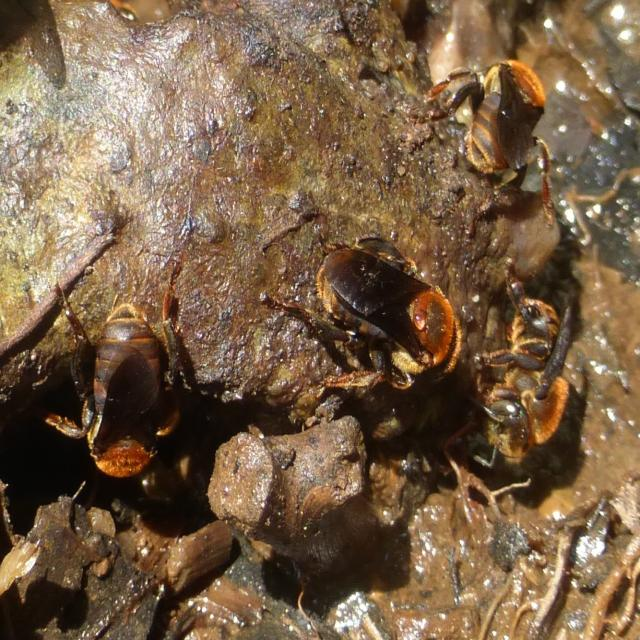Meliponula: (50, 260, 186, 498), (308, 228, 464, 404), (483, 271, 578, 478), (443, 39, 547, 226)
